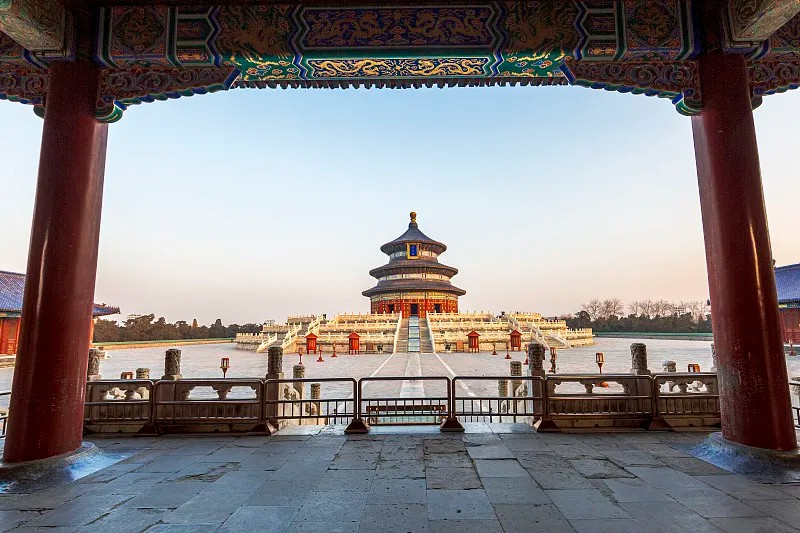Heaven: (360, 210, 467, 317)
